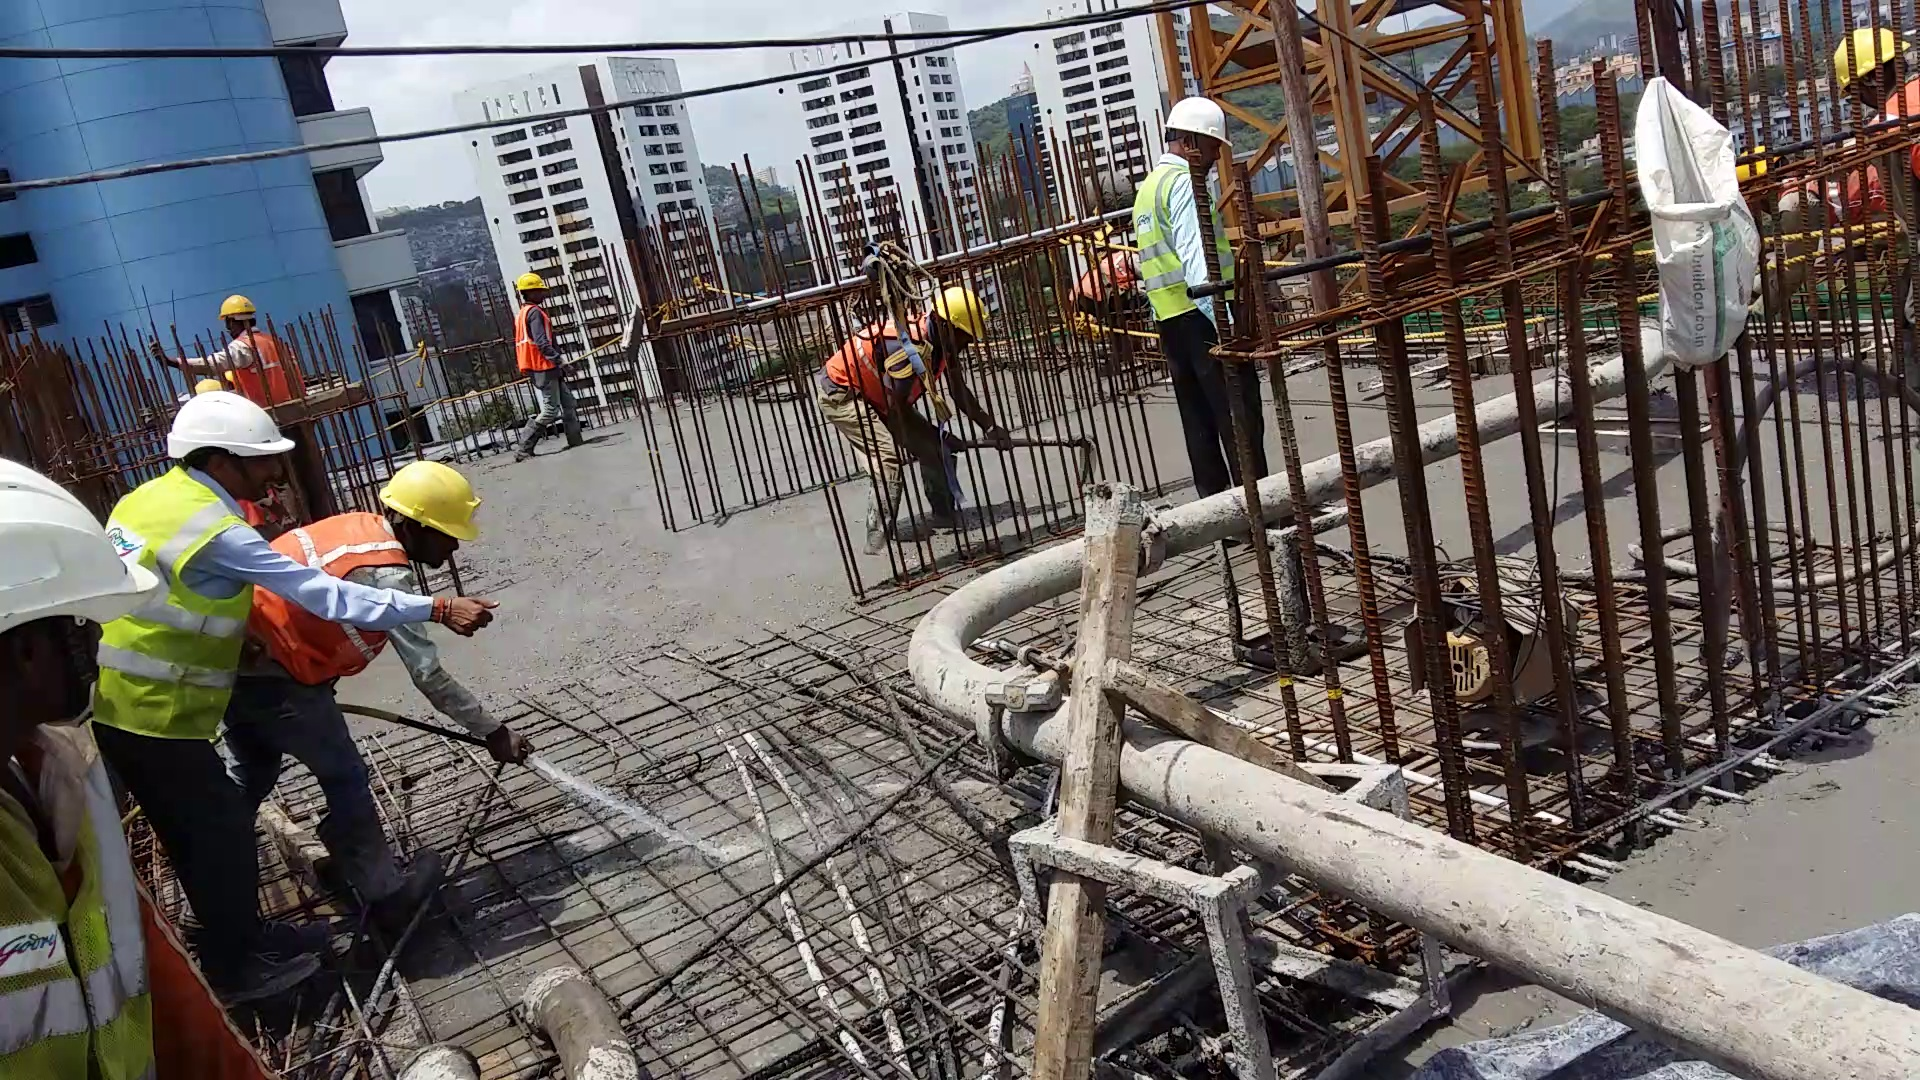SAFE: (3, 462, 128, 1080), (138, 392, 280, 746), (297, 451, 484, 585), (1127, 91, 1191, 314), (512, 262, 560, 378)
